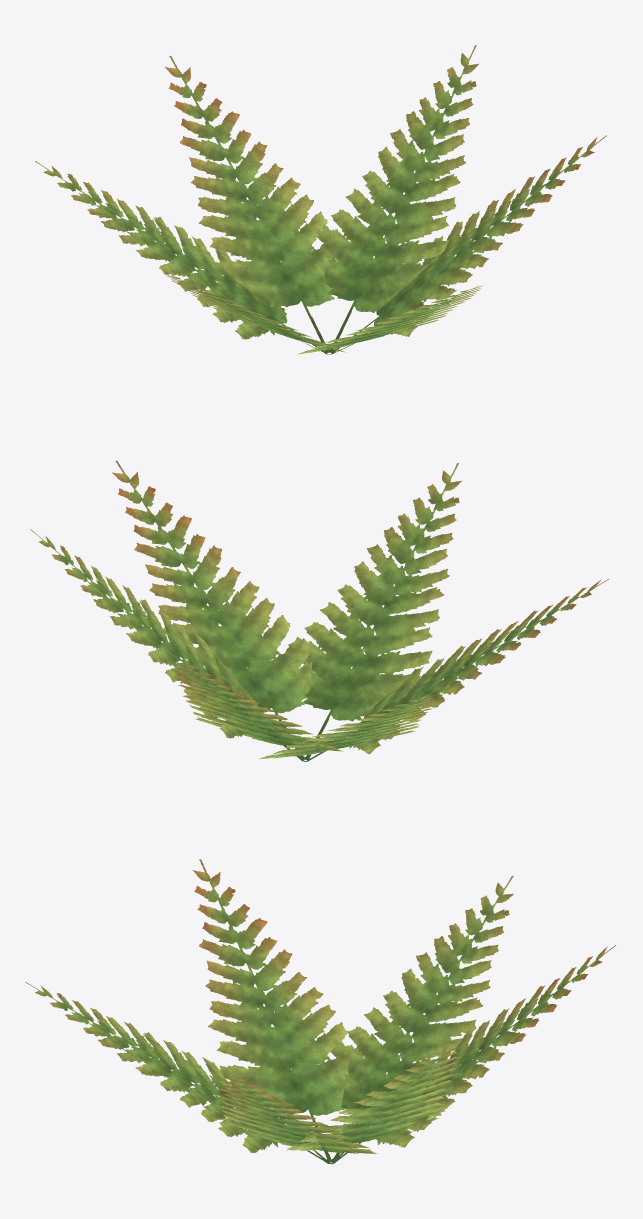
Rendered from shrub_mound.glb.
3 views of the same model, one above another, from view 1: azimuth 30°, elevation 25°; view 2: azimuth 150°, elevation 25°; view 3: azimuth 270°, elevation 25° (orthographic). The views are drawn at different scales.
Visible parts, largest first — view 1: shrub_mound; view 2: shrub_mound; view 3: shrub_mound.
Part boxes in pixels (x1,y1,x2,y2): shrub_mound: (35,45,606,354); shrub_mound: (30,460,608,761); shrub_mound: (25,859,615,1164).
Size of the model in its own units: 1.01 by 0.4025 by 0.9731.
1 material, 1 textured.
